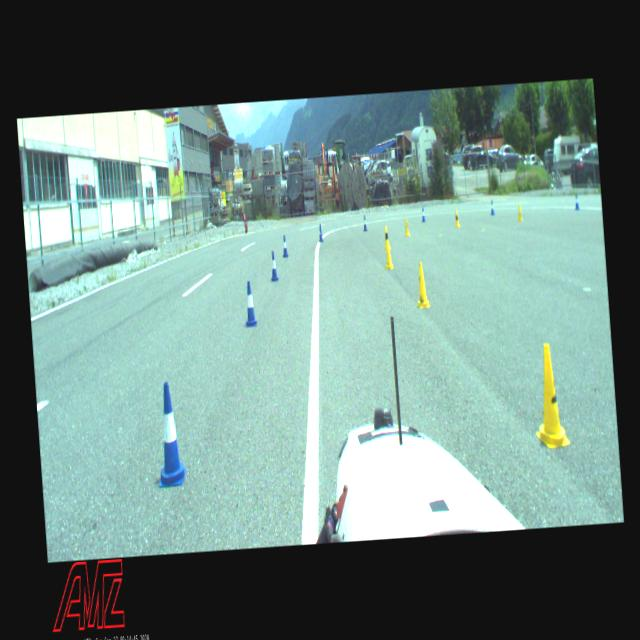blue_cone: (152, 381, 186, 486), (242, 280, 256, 327), (269, 250, 278, 281), (281, 234, 288, 257), (420, 206, 426, 222), (362, 214, 368, 230), (318, 223, 323, 242), (574, 192, 579, 209), (490, 200, 494, 213)
yellow_cone: (530, 342, 570, 448), (414, 261, 430, 308), (384, 240, 394, 268), (382, 224, 390, 248), (402, 217, 410, 236), (516, 202, 523, 220), (454, 208, 459, 226)
